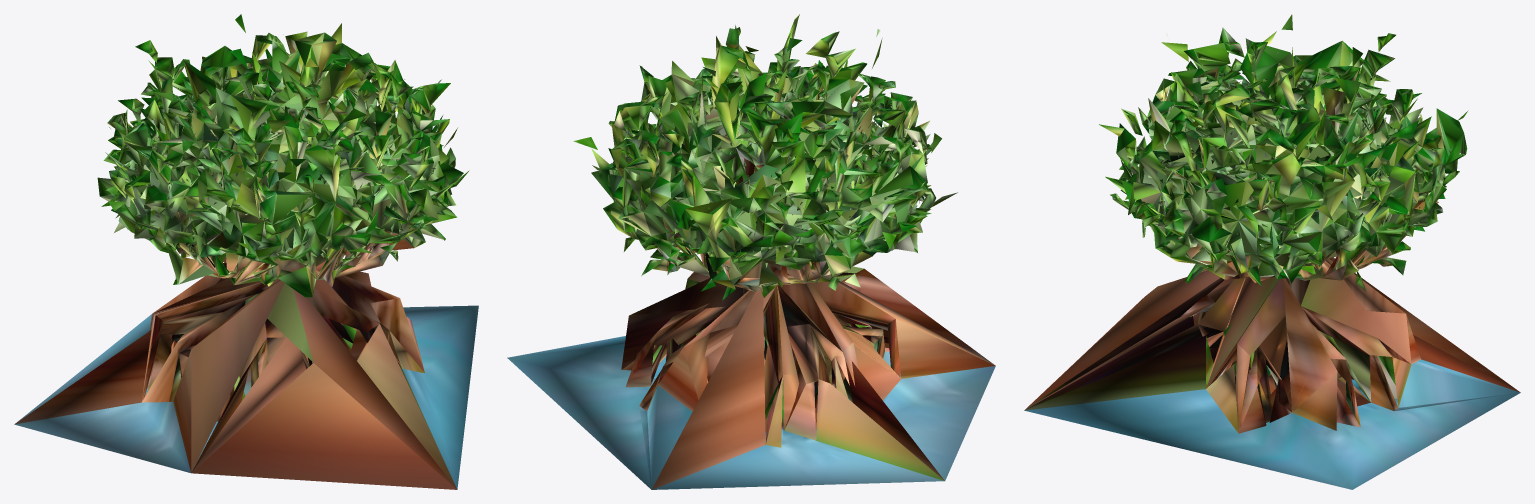
File: mangrove.glb
The picture shows the model from 3 angles, left to right: view 1: azimuth 30°, elevation 25°; view 2: azimuth 150°, elevation 25°; view 3: azimuth 270°, elevation 25°; orthographic projection. The views are drawn at different scales.
Visible parts, largest first — view 1: mesh; view 2: mesh; view 3: mesh.
Boxes of the visible parts, x1,y1,x2,y2 form: mesh: [14, 14, 478, 489]; mesh: [507, 14, 995, 489]; mesh: [1024, 14, 1520, 489].
Bounding box in the file's own units: 1 × 0.7482 × 0.9823.
1 material, 1 textured.
